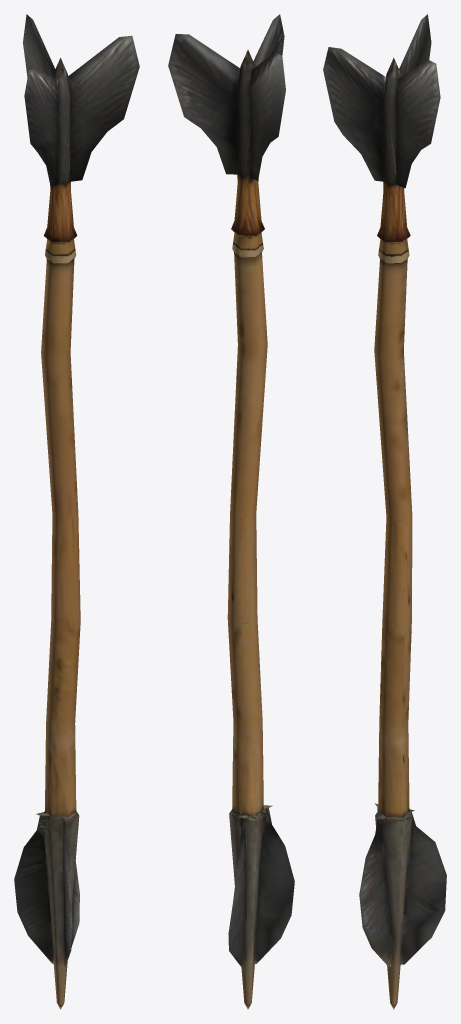
The model's file is arrow.fbx.
The picture shows the model from 3 angles, left to right: view 1: azimuth 30°, elevation 25°; view 2: azimuth 210°, elevation 25°; view 3: azimuth 330°, elevation 25°; orthographic projection.
Parts seen in each view (by area): view 1: tripo_node_9d9a938b-3c63-4f66-a888-d1ec7693d9da; view 2: tripo_node_9d9a938b-3c63-4f66-a888-d1ec7693d9da; view 3: tripo_node_9d9a938b-3c63-4f66-a888-d1ec7693d9da.
Part boxes in pixels (box(x1,y1,x2,y2)): tripo_node_9d9a938b-3c63-4f66-a888-d1ec7693d9da: box(14, 14, 139, 1009); tripo_node_9d9a938b-3c63-4f66-a888-d1ec7693d9da: box(168, 14, 294, 1009); tripo_node_9d9a938b-3c63-4f66-a888-d1ec7693d9da: box(323, 14, 446, 1009).
Bounding box in the file's own units: 0.1255 × 1 × 0.1128.
1 material, 1 textured.
